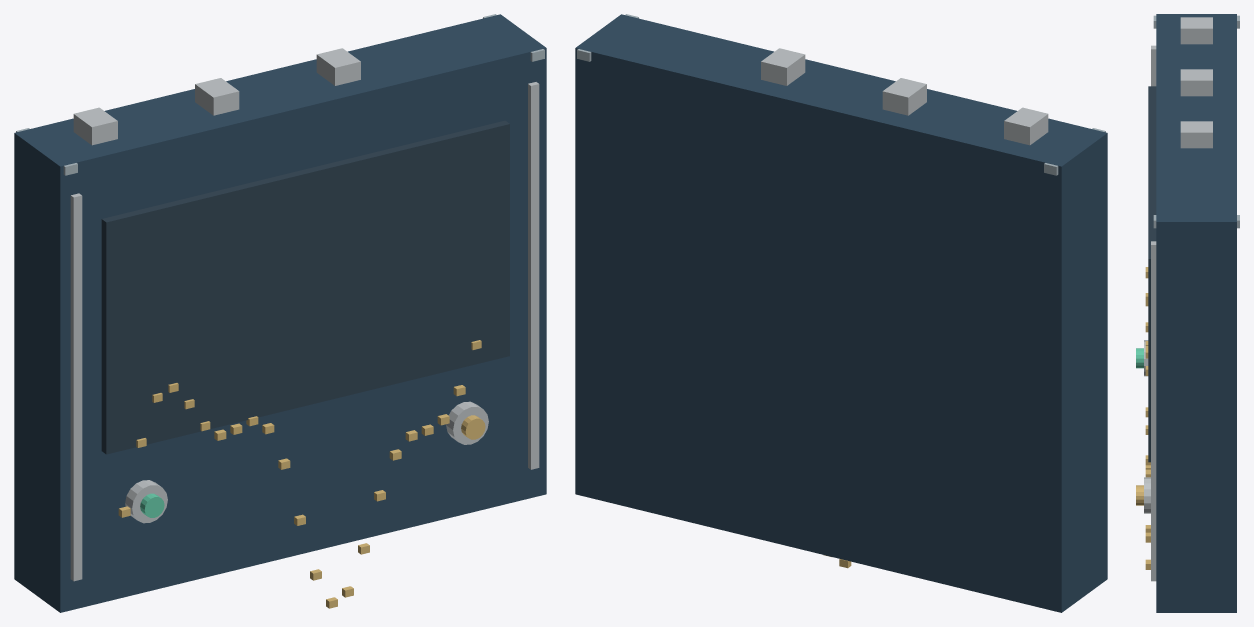
Rendered from 46_L75_CrystalLatticeDamageAnalyzer.glb.
The picture shows the model from 3 angles, left to right: view 1: azimuth 30°, elevation 25°; view 2: azimuth 150°, elevation 25°; view 3: azimuth 270°, elevation 25°; orthographic projection. The views are drawn at different scales.
Parts seen in each view (by area): view 1: CrystalLatticeDamageAnalyzer_Node_0000, CrystalLatticeDamageAnalyzer_Node_0007, CrystalLatticeDamageAnalyzer_Node_0005, CrystalLatticeDamageAnalyzer_Node_0006, CrystalLatticeDamageAnalyzer_Node_0022, CrystalLatticeDamageAnalyzer_Node_0023, CrystalLatticeDamageAnalyzer_Node_0021, CrystalLatticeDamageAnalyzer_Node_0019, CrystalLatticeDamageAnalyzer_Node_0017; view 2: CrystalLatticeDamageAnalyzer_Node_0000, CrystalLatticeDamageAnalyzer_Node_0022, CrystalLatticeDamageAnalyzer_Node_0023, CrystalLatticeDamageAnalyzer_Node_0021; view 3: CrystalLatticeDamageAnalyzer_Node_0000, CrystalLatticeDamageAnalyzer_Node_0006, CrystalLatticeDamageAnalyzer_Node_0007, CrystalLatticeDamageAnalyzer_Node_0021, CrystalLatticeDamageAnalyzer_Node_0022, CrystalLatticeDamageAnalyzer_Node_0023, CrystalLatticeDamageAnalyzer_Node_0019, CrystalLatticeDamageAnalyzer_Node_0005, CrystalLatticeDamageAnalyzer_Node_0018, CrystalLatticeDamageAnalyzer_Node_0020.
Boxes of the visible parts, x1,y1,x2,y2 form: CrystalLatticeDamageAnalyzer_Node_0000: [14, 14, 546, 612]; CrystalLatticeDamageAnalyzer_Node_0007: [101, 120, 509, 454]; CrystalLatticeDamageAnalyzer_Node_0005: [70, 193, 82, 581]; CrystalLatticeDamageAnalyzer_Node_0006: [528, 82, 539, 469]; CrystalLatticeDamageAnalyzer_Node_0022: [195, 78, 239, 115]; CrystalLatticeDamageAnalyzer_Node_0023: [316, 48, 360, 85]; CrystalLatticeDamageAnalyzer_Node_0021: [73, 107, 117, 145]; CrystalLatticeDamageAnalyzer_Node_0019: [446, 401, 488, 444]; CrystalLatticeDamageAnalyzer_Node_0017: [125, 480, 167, 523]; CrystalLatticeDamageAnalyzer_Node_0000: [575, 14, 1107, 612]; CrystalLatticeDamageAnalyzer_Node_0022: [882, 78, 926, 115]; CrystalLatticeDamageAnalyzer_Node_0023: [761, 48, 805, 85]; CrystalLatticeDamageAnalyzer_Node_0021: [1004, 107, 1048, 145]; CrystalLatticeDamageAnalyzer_Node_0000: [1156, 14, 1236, 612]; CrystalLatticeDamageAnalyzer_Node_0006: [1151, 241, 1156, 581]; CrystalLatticeDamageAnalyzer_Node_0007: [1148, 86, 1156, 462]; CrystalLatticeDamageAnalyzer_Node_0021: [1180, 17, 1212, 44]; CrystalLatticeDamageAnalyzer_Node_0022: [1180, 69, 1212, 96]; CrystalLatticeDamageAnalyzer_Node_0023: [1180, 121, 1212, 148]; CrystalLatticeDamageAnalyzer_Node_0019: [1144, 477, 1150, 513]; CrystalLatticeDamageAnalyzer_Node_0005: [1151, 45, 1156, 86]; CrystalLatticeDamageAnalyzer_Node_0018: [1136, 348, 1143, 368]; CrystalLatticeDamageAnalyzer_Node_0020: [1136, 485, 1143, 505].
Size of the model in its own units: 1.22 by 1.25 by 0.2575.
